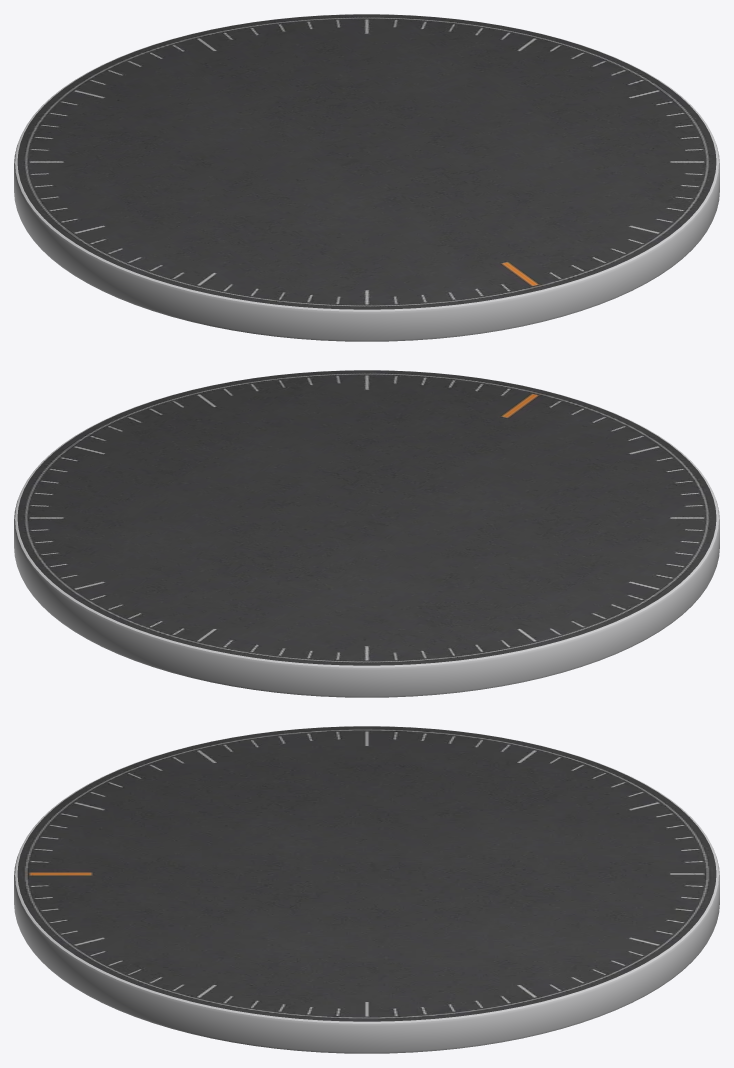
The model's file is turntable_final.glb.
The picture shows the model from 3 angles, top to bottom: view 1: azimuth 30°, elevation 25°; view 2: azimuth 150°, elevation 25°; view 3: azimuth 270°, elevation 25°; orthographic projection.
Visible parts, largest first — view 1: SM_Turntable_Disc; view 2: SM_Turntable_Disc; view 3: SM_Turntable_Disc.
Part boxes in pixels (<box>): SM_Turntable_Disc: <box>14,14,719,341</box>; SM_Turntable_Disc: <box>14,370,719,697</box>; SM_Turntable_Disc: <box>14,726,719,1053</box>.
Bounding box in the file's own units: 0.6 × 0.05 × 0.6.
Materials: 3 (1 with a texture image).
